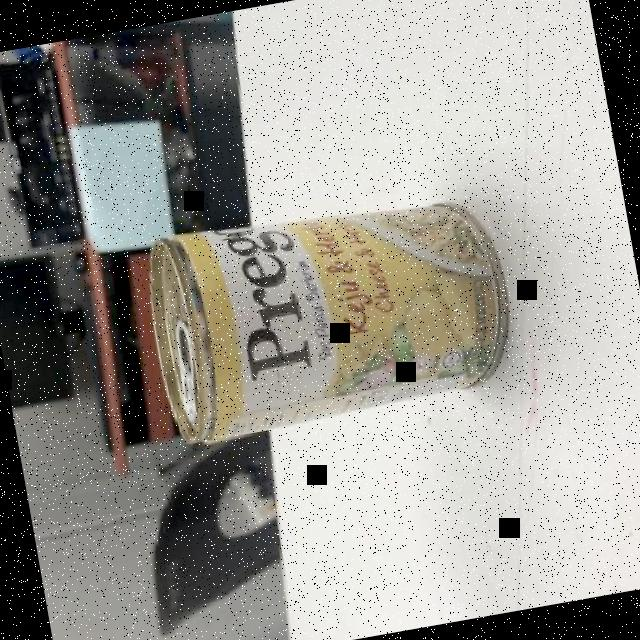can: (132, 179, 526, 450)
